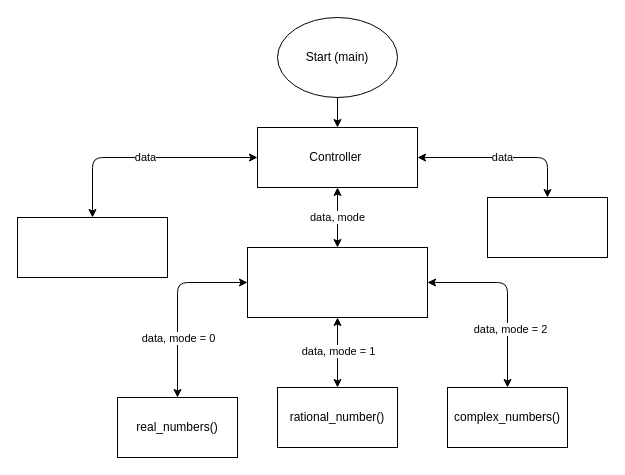
The diagram is 625 pixels wide and 475 high, and some of its shapes have lost their labels. Each missing label, with the box of its shape:
Logger: (486, 196, 608, 258)
Model: (246, 246, 428, 318)
View: (16, 216, 168, 278)
